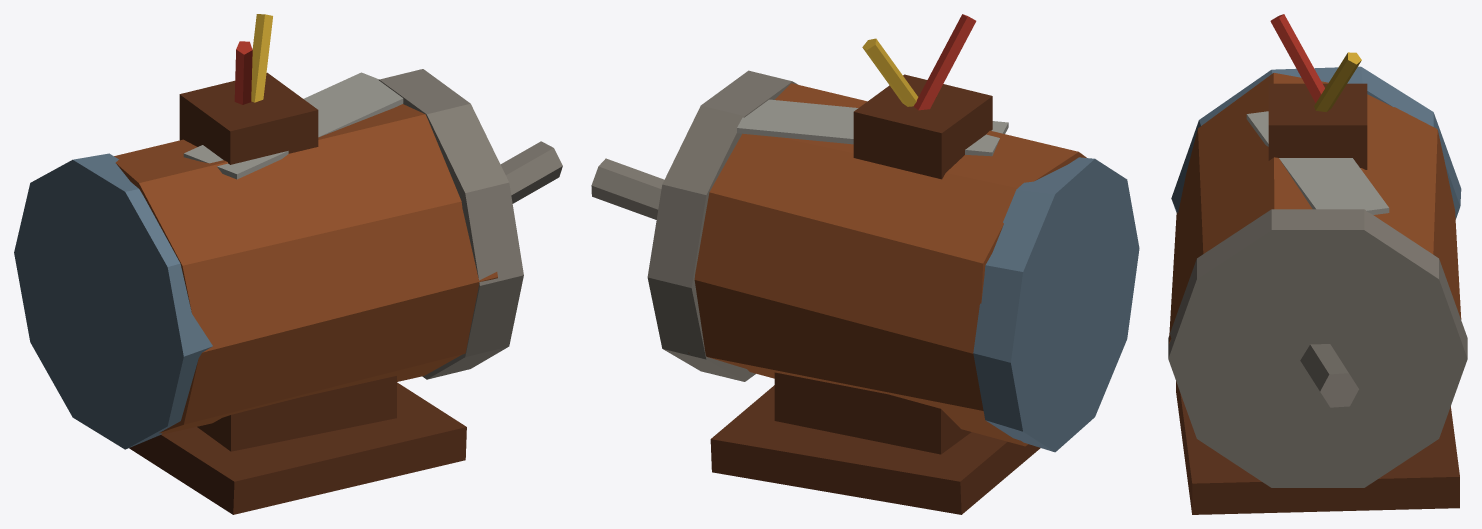
The model's file is motor_scrap.glb.
The picture shows the model from 3 angles, left to right: view 1: azimuth 30°, elevation 25°; view 2: azimuth 150°, elevation 25°; view 3: azimuth 270°, elevation 25°; orthographic projection. The views are drawn at different scales.
Parts seen in each view (by area): view 1: motor_scrap; view 2: motor_scrap; view 3: motor_scrap.
Boxes of the visible parts, box(x1,y1,x2,y2) form: motor_scrap: box(14, 14, 562, 514); motor_scrap: box(591, 14, 1139, 514); motor_scrap: box(1168, 14, 1467, 514).
Size of the model in its own units: 0.3801 by 0.3251 by 0.212.
